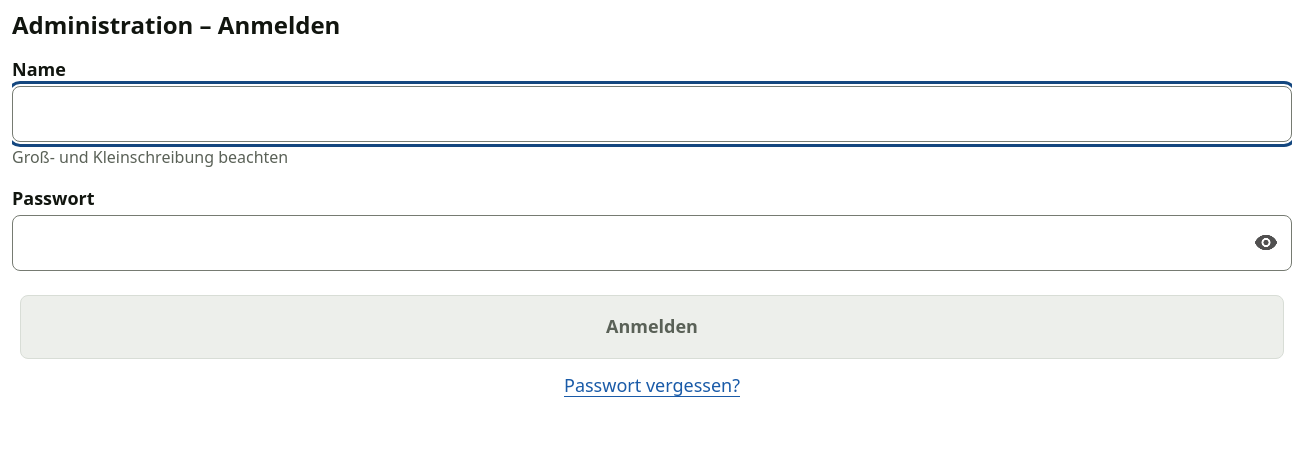
AdminAnmeldung › Fehler › 400 ohne felder: Text im Kasten
In the field with test id "admin-name": (652, 114) x1=12 y1=86 x2=1292 y2=142, type "Beispieladmin"
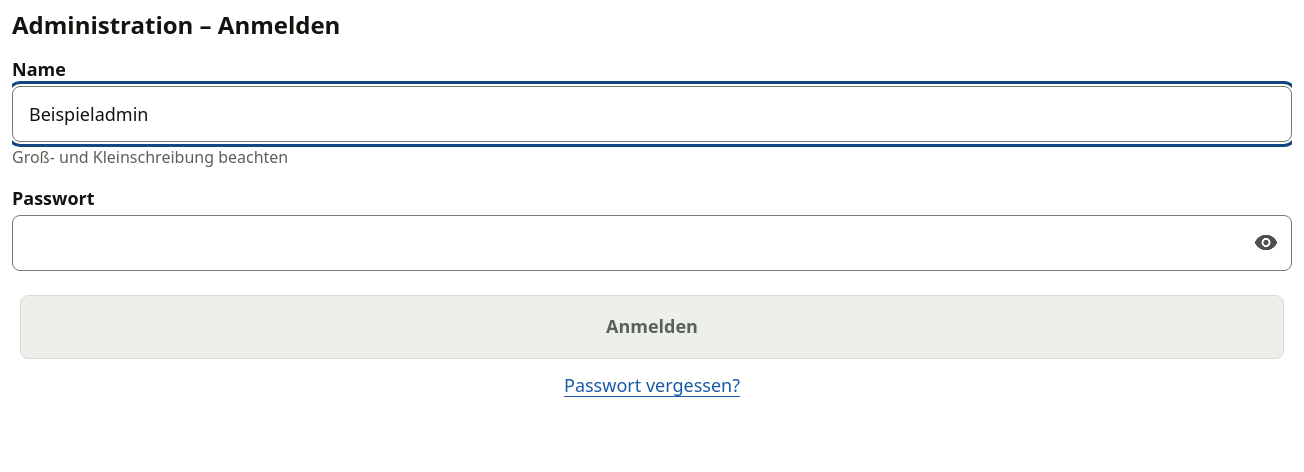
In the password field with test id "admin-passwort": (652, 243) x1=12 y1=215 x2=1292 y2=271, type "beispiel-passwort-01"
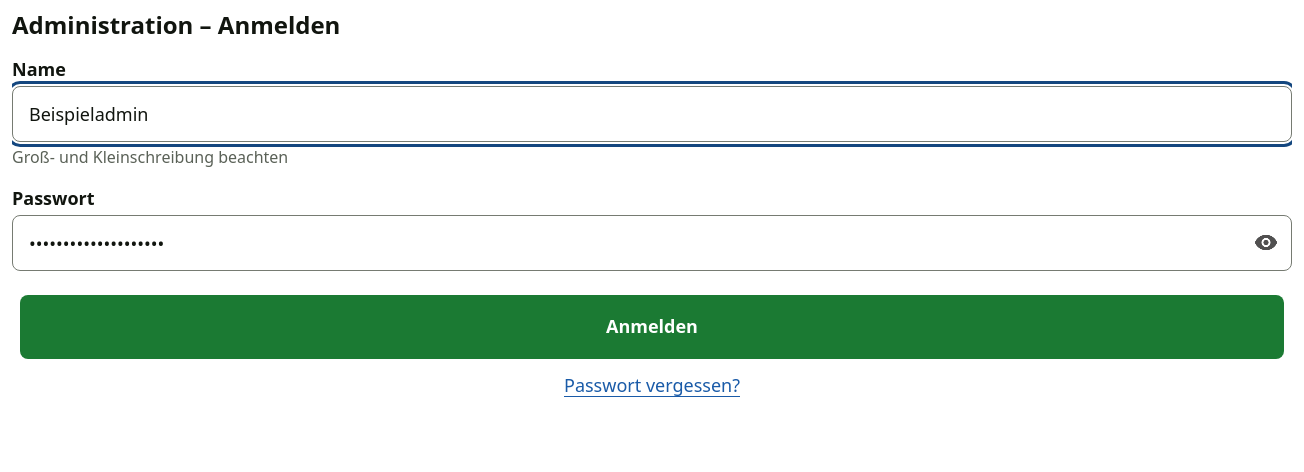
Click the button with test id "admin-absenden": (652, 327) x1=20 y1=295 x2=1284 y2=359
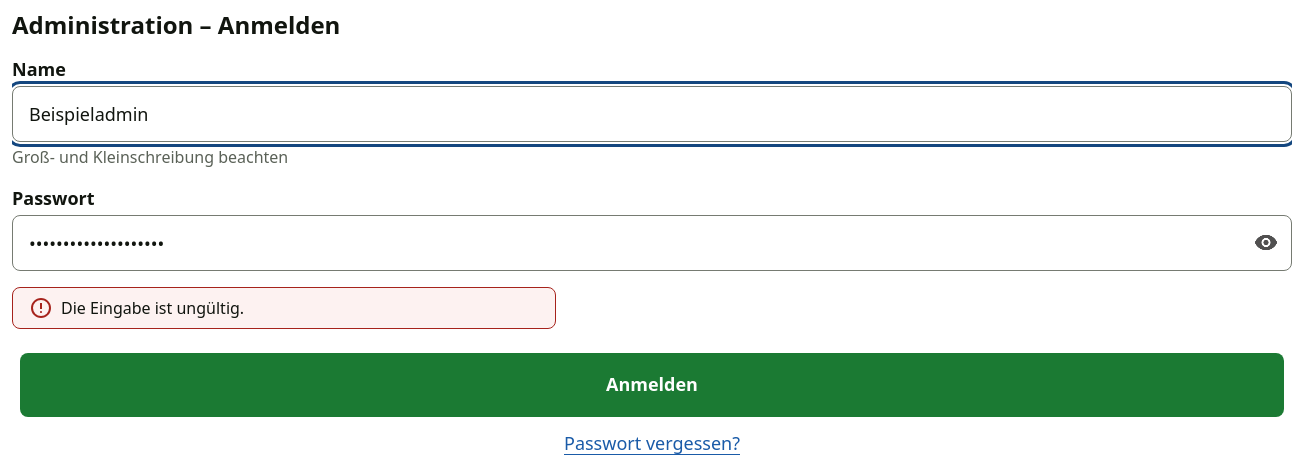
Expected: the message with test id "admin-fehler" reads "Die Eingabe ist ungültig.", x1=61 y1=297 x2=244 y2=319
